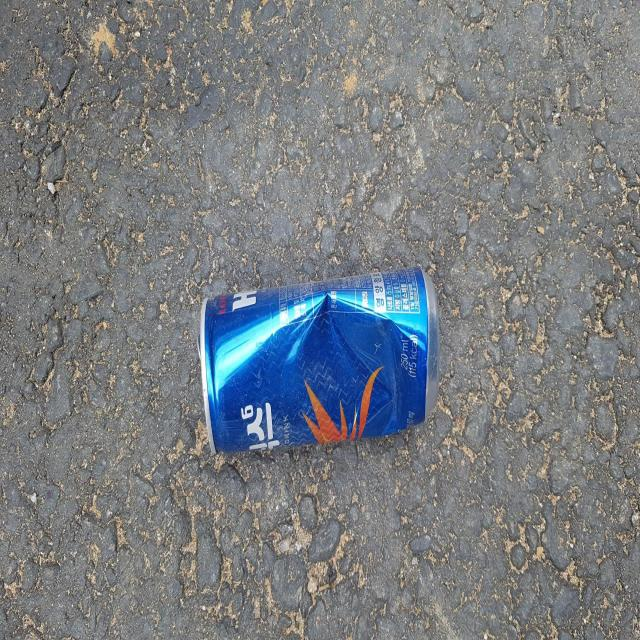can: (199, 267, 439, 452)
